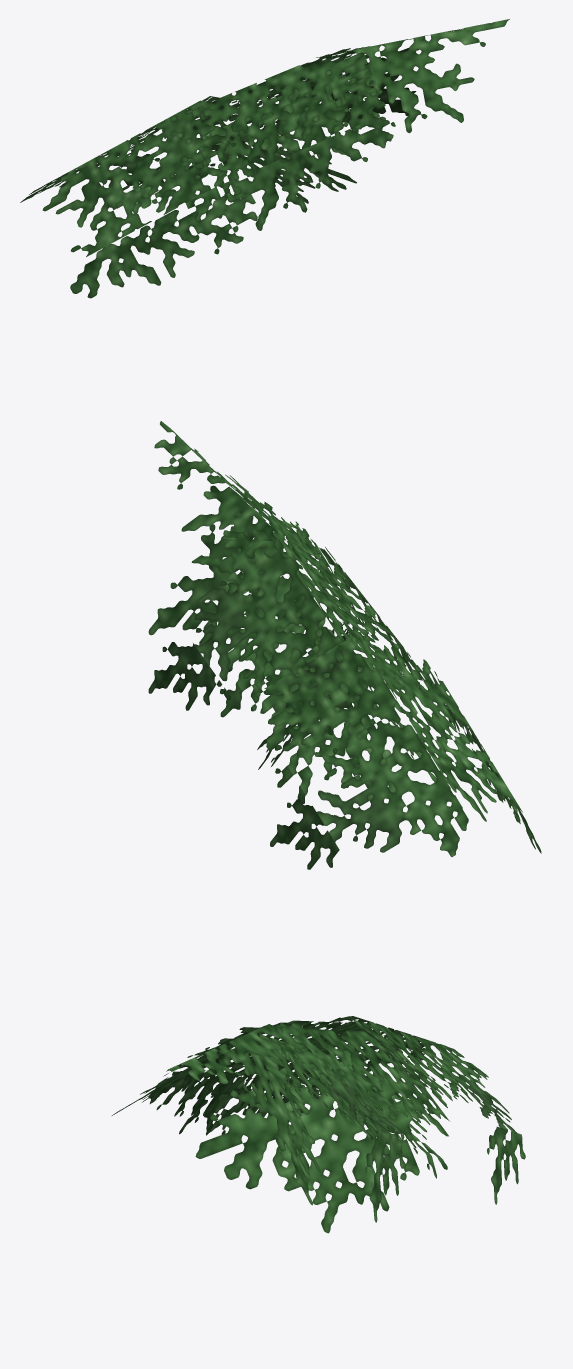
The model's file is spruce_leaves_5.obj.
3 views of the same model, one above another, from view 1: azimuth 30°, elevation 25°; view 2: azimuth 150°, elevation 25°; view 3: azimuth 270°, elevation 25° (orthographic). The views are drawn at different scales.
Parts seen in each view (by area): view 1: plane, cube; view 2: plane, cube; view 3: plane, cube.
Boxes of the visible parts, x1,y1,x2,y2 form: plane: (20, 19, 509, 298); cube: (212, 48, 419, 203); plane: (148, 421, 541, 869); cube: (148, 485, 348, 769); plane: (112, 1016, 525, 1222); cube: (195, 1042, 419, 1233).
Size of the model in its own units: 3.44 by 2.1 by 2.65.
